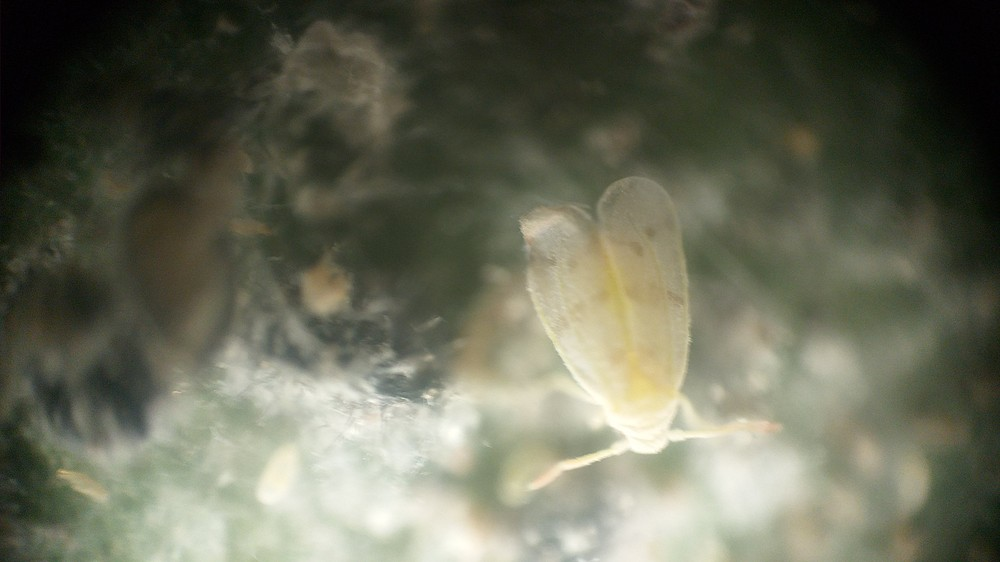Mosca Blanca: (473, 172, 812, 515)
